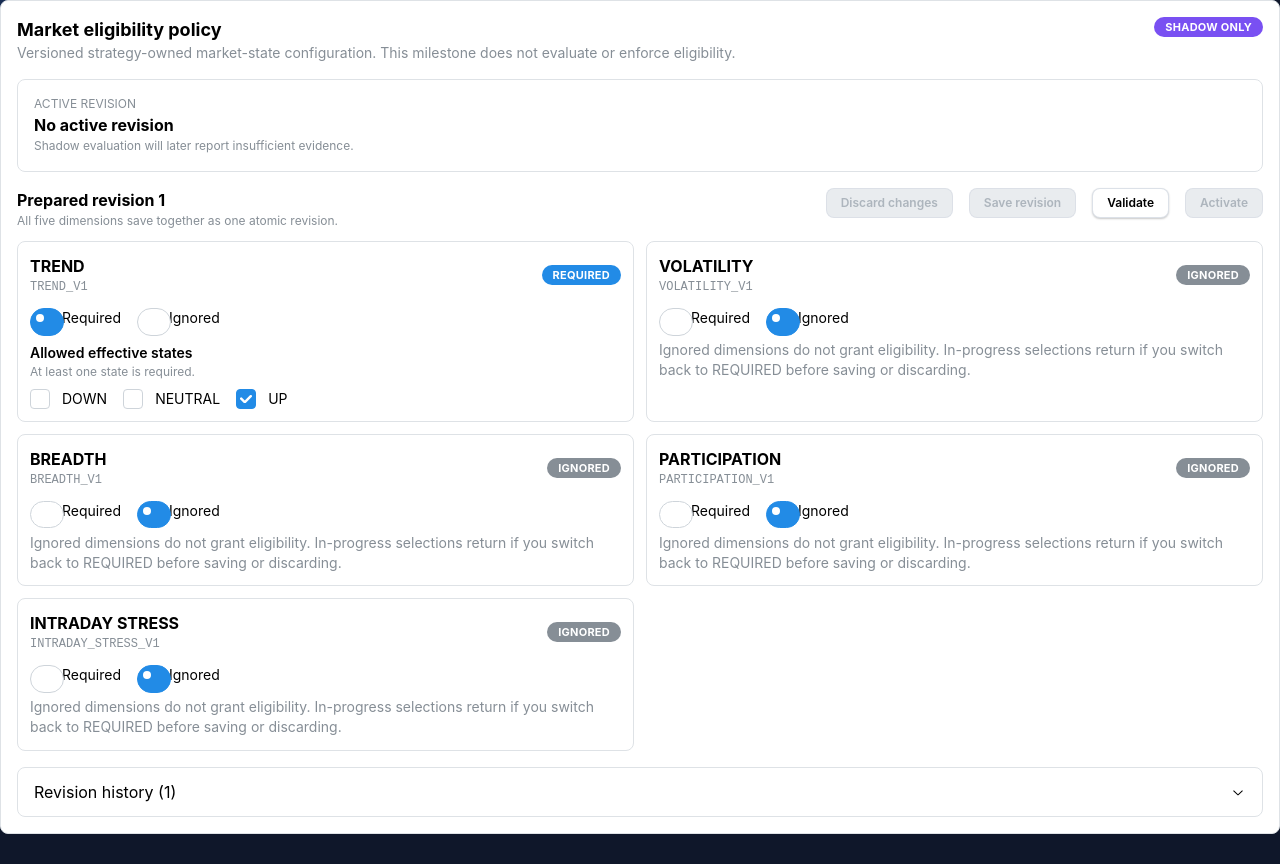
Test case: StrategyMarketPolicyPanel › ignores retained temporary states when comparing an ignored dimension
Click the 2nd radio button labelled "Required": [676, 322] box 659,308 -> 693,336
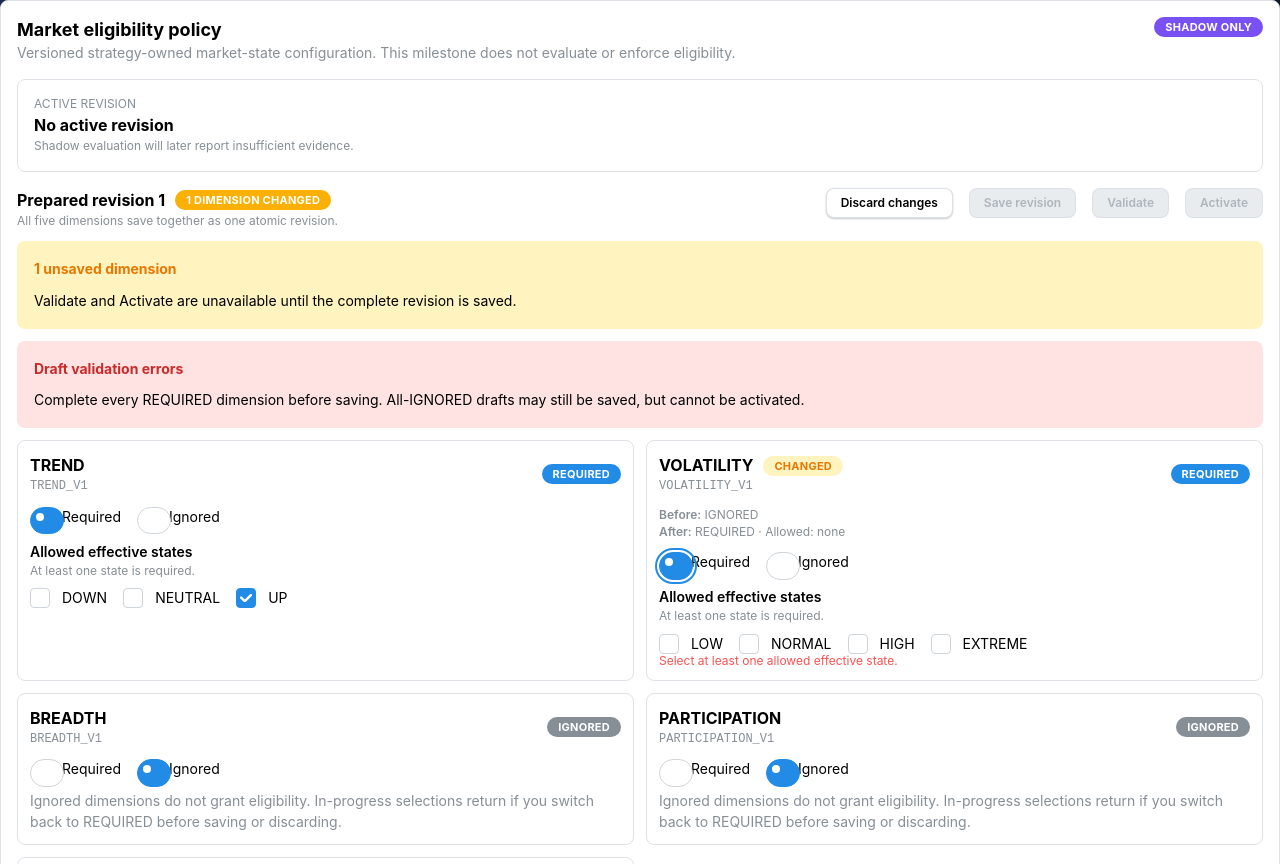
Click the checkbox labelled "HIGH": [858, 644] box 848,634 -> 868,654
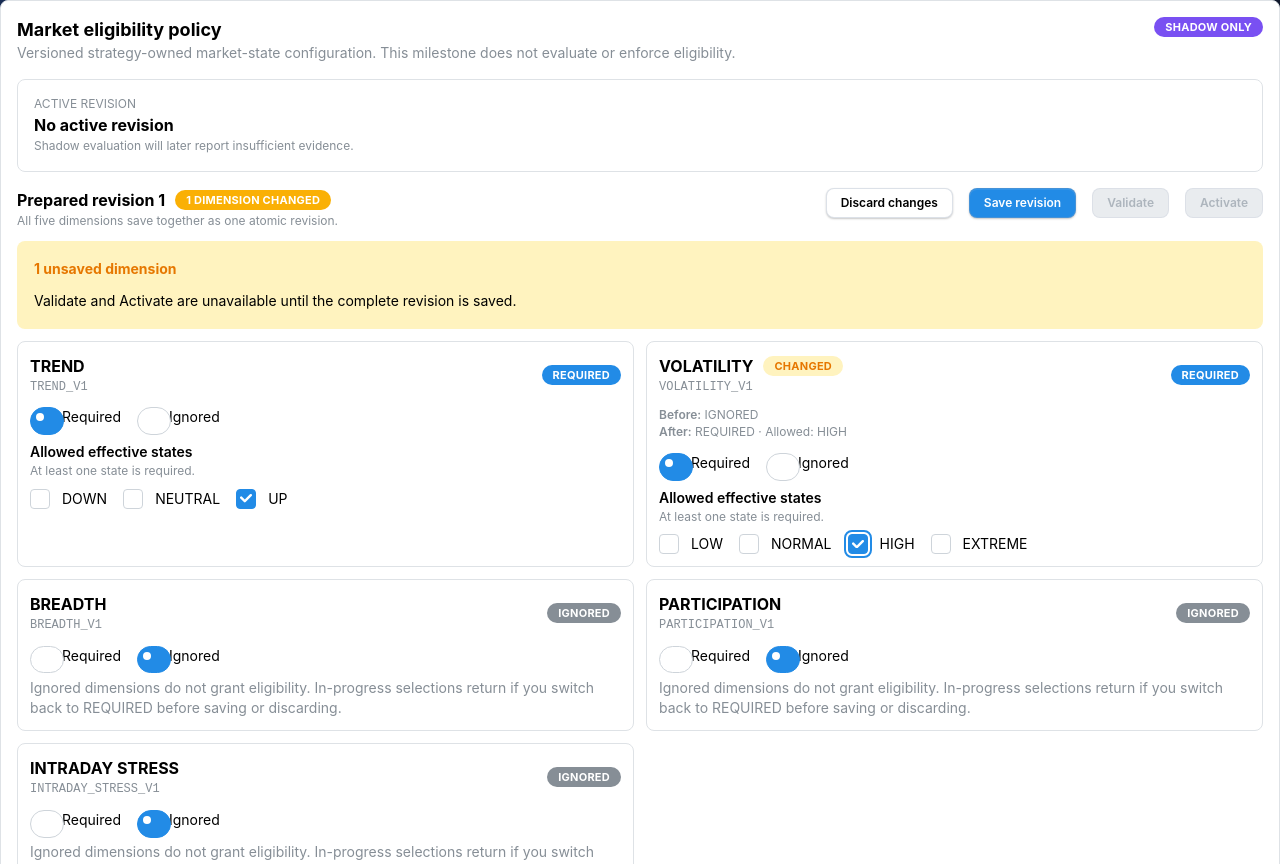
Click the 2nd radio button labelled "Ignored": [783, 467] box 766,453 -> 800,480
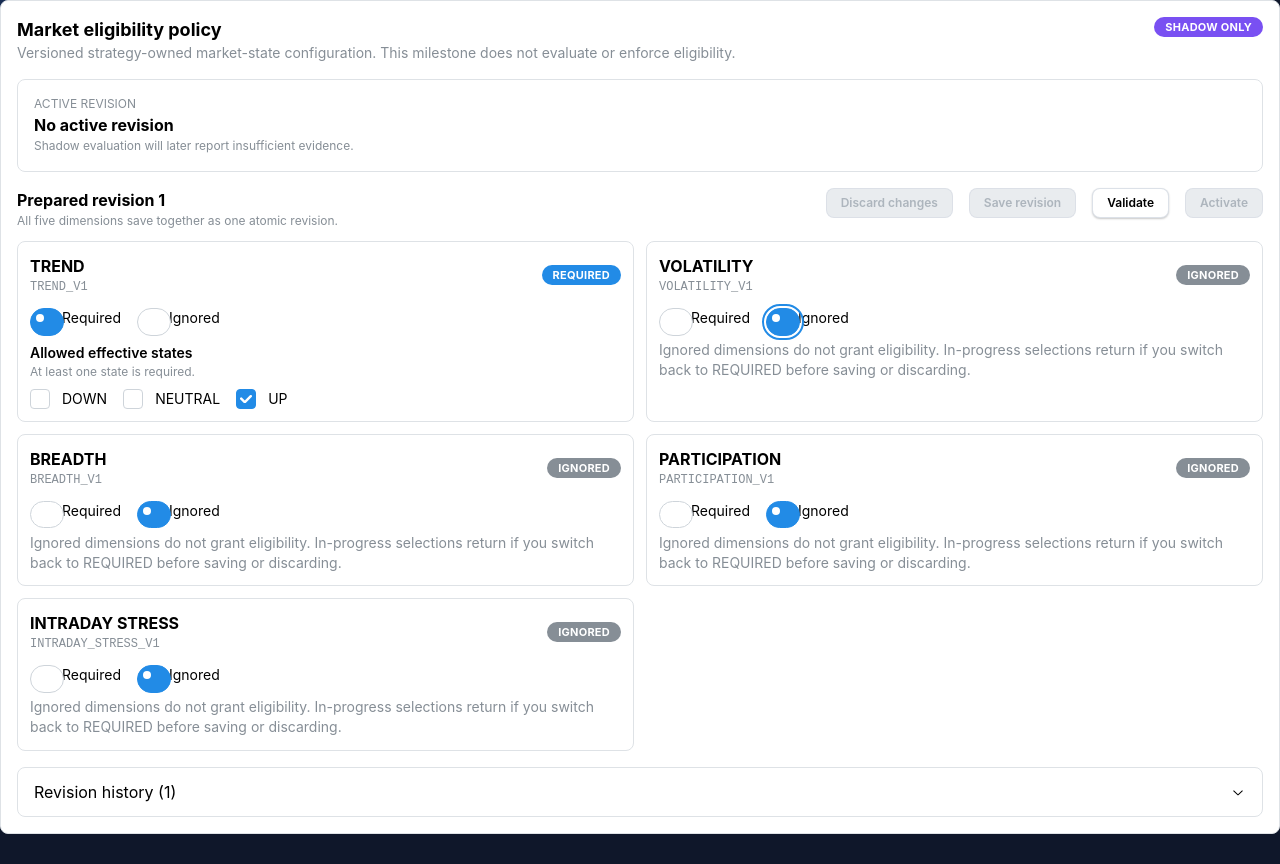
Check: the text "dimension changed" is gone
Check: the button "Save revision" is disabled, box 969,188 -> 1076,218
Click the 2nd radio button labelled "Required": [676, 322] box 659,308 -> 693,336
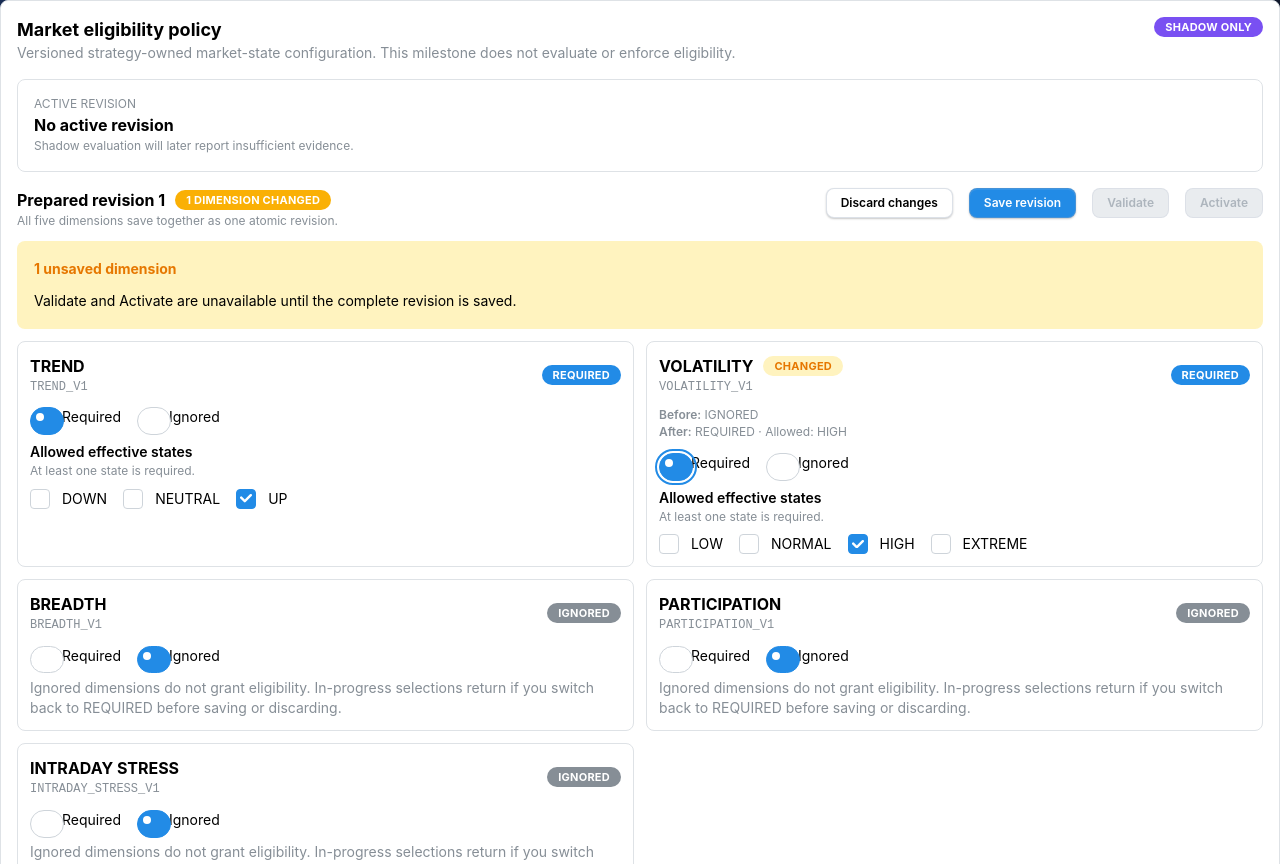
Check: the checkbox labelled "HIGH" is checked, box 848,534 -> 868,554
